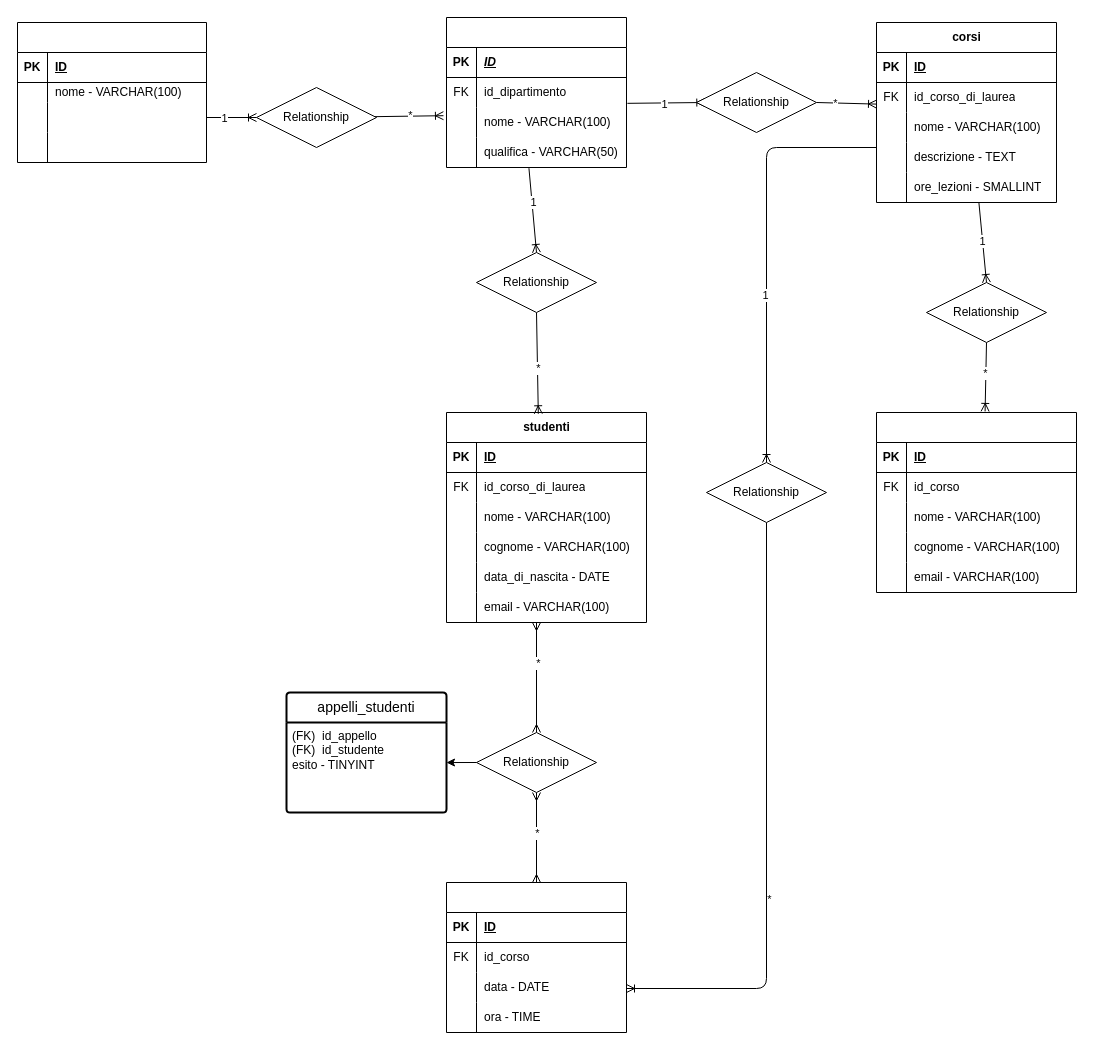
Image size: 1094x1050. Some labels were removed from this diagram. Each missing label, with the box of its shape:
appelli_esami: (446, 882, 626, 1032)
corsi_di_laurea: (446, 16, 626, 168)
dipartimenti: (16, 22, 206, 162)
insegnanti: (876, 412, 1076, 592)
